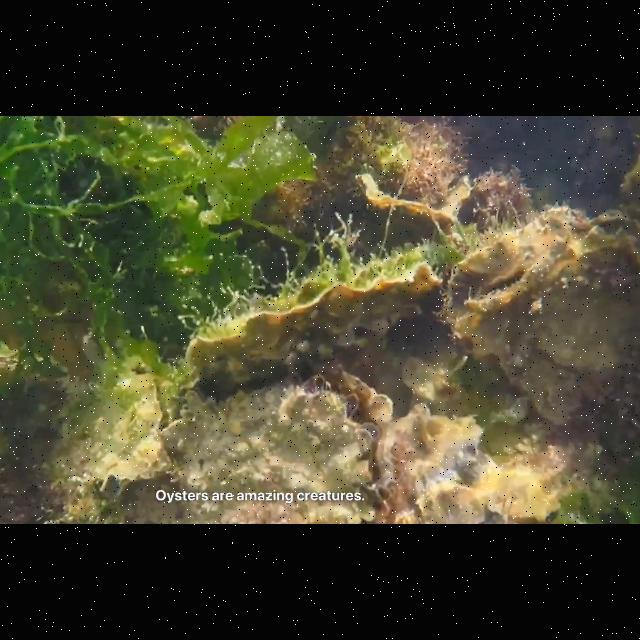Oyster-Closed: (185, 262, 447, 398)
Oyster-Open: (444, 206, 640, 430), (158, 372, 392, 524), (374, 402, 502, 524), (84, 370, 174, 504), (46, 428, 130, 524), (352, 175, 456, 245)
